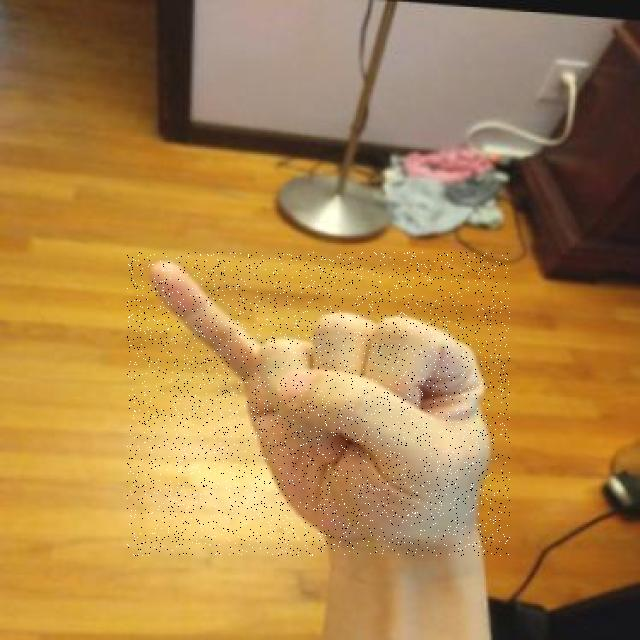I: (127, 252, 510, 556)
